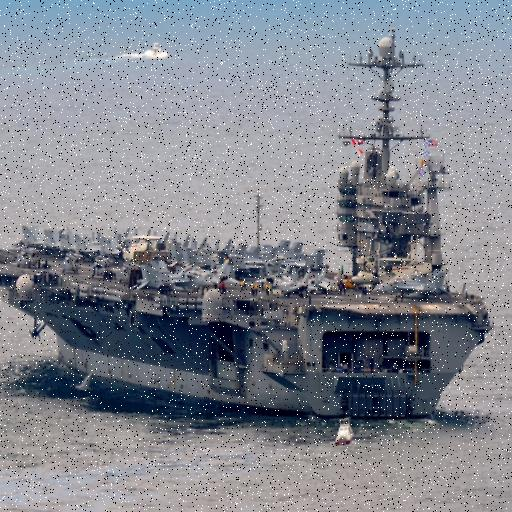Portanaves: (1, 23, 495, 443)
